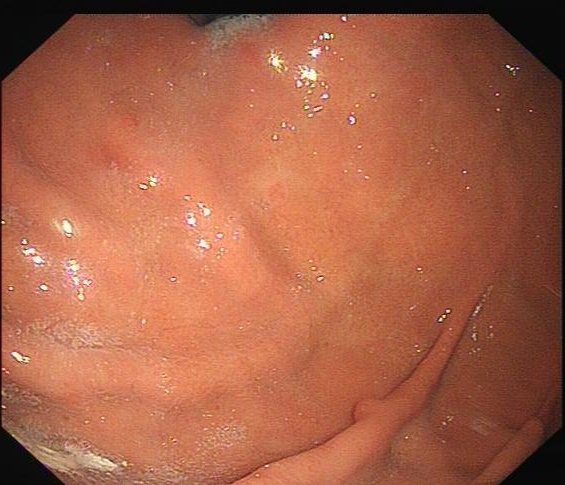Polyp: (341, 383, 395, 435)
